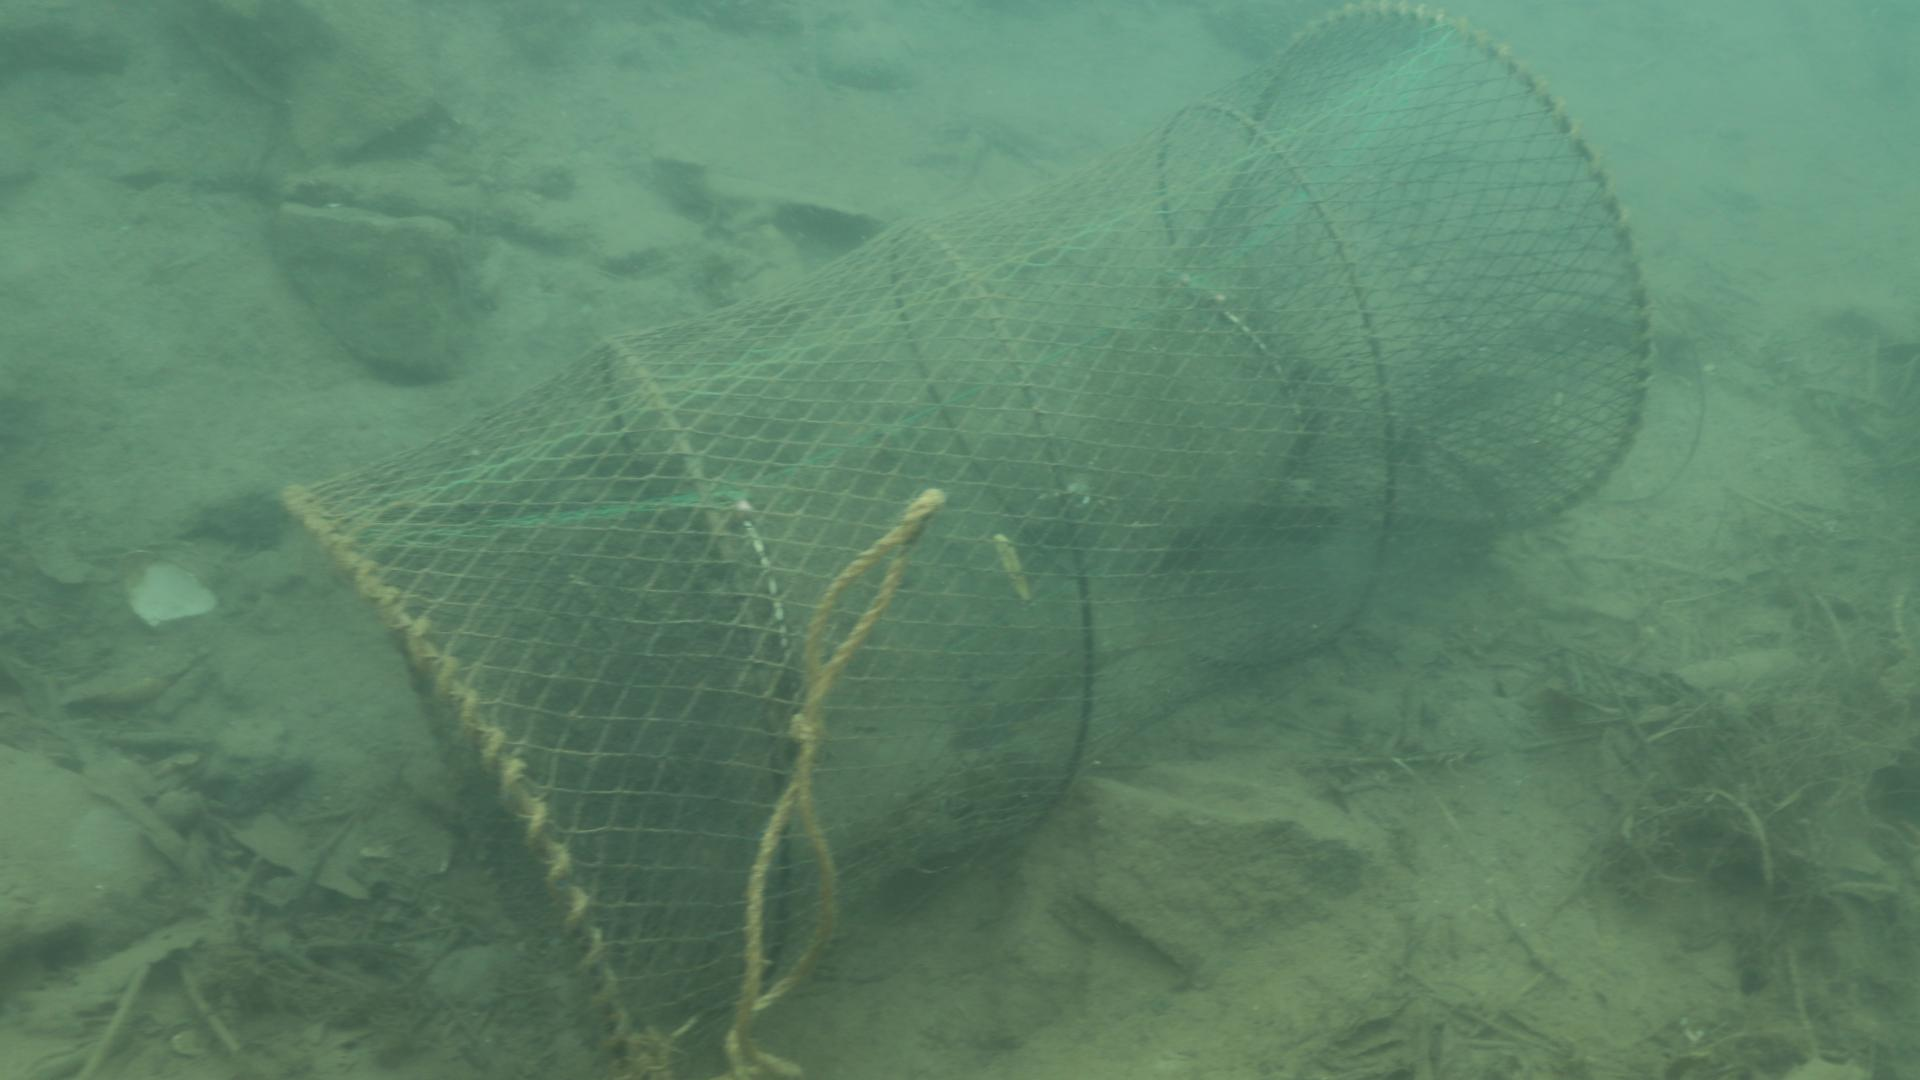bundle of ropes: (704, 492, 945, 1080)
spring fish trap: (276, 0, 1655, 1080)
